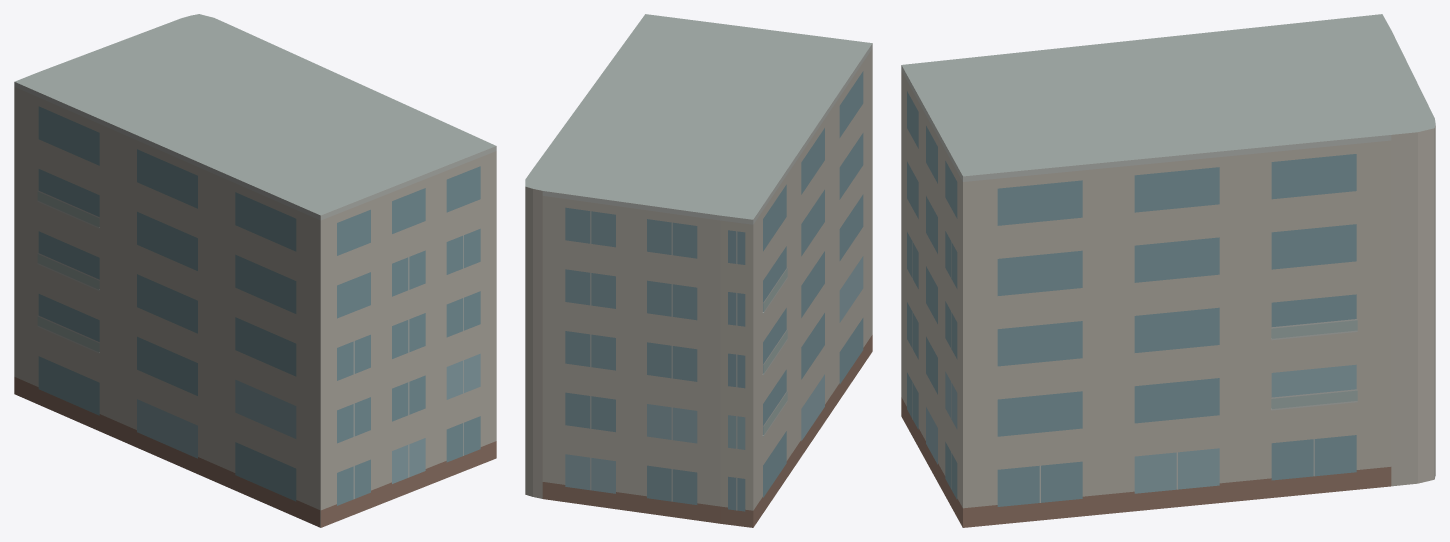
The model's file is survey-upis-32820329.glb.
3 views of the same model, side by side, from view 1: azimuth 30°, elevation 25°; view 2: azimuth 150°, elevation 25°; view 3: azimuth 270°, elevation 25° (orthographic). The views are drawn at different scales.
Visible parts, largest first — view 1: survey-upis-32820329.tmp; view 2: survey-upis-32820329.tmp; view 3: survey-upis-32820329.tmp.
Part boxes in pixels (box(x1,y1,x2,y2)): survey-upis-32820329.tmp: box(14, 14, 496, 527); survey-upis-32820329.tmp: box(525, 14, 872, 527); survey-upis-32820329.tmp: box(901, 14, 1435, 527).
Size of the model in its own units: 15.12 by 15.25 by 21.01.
